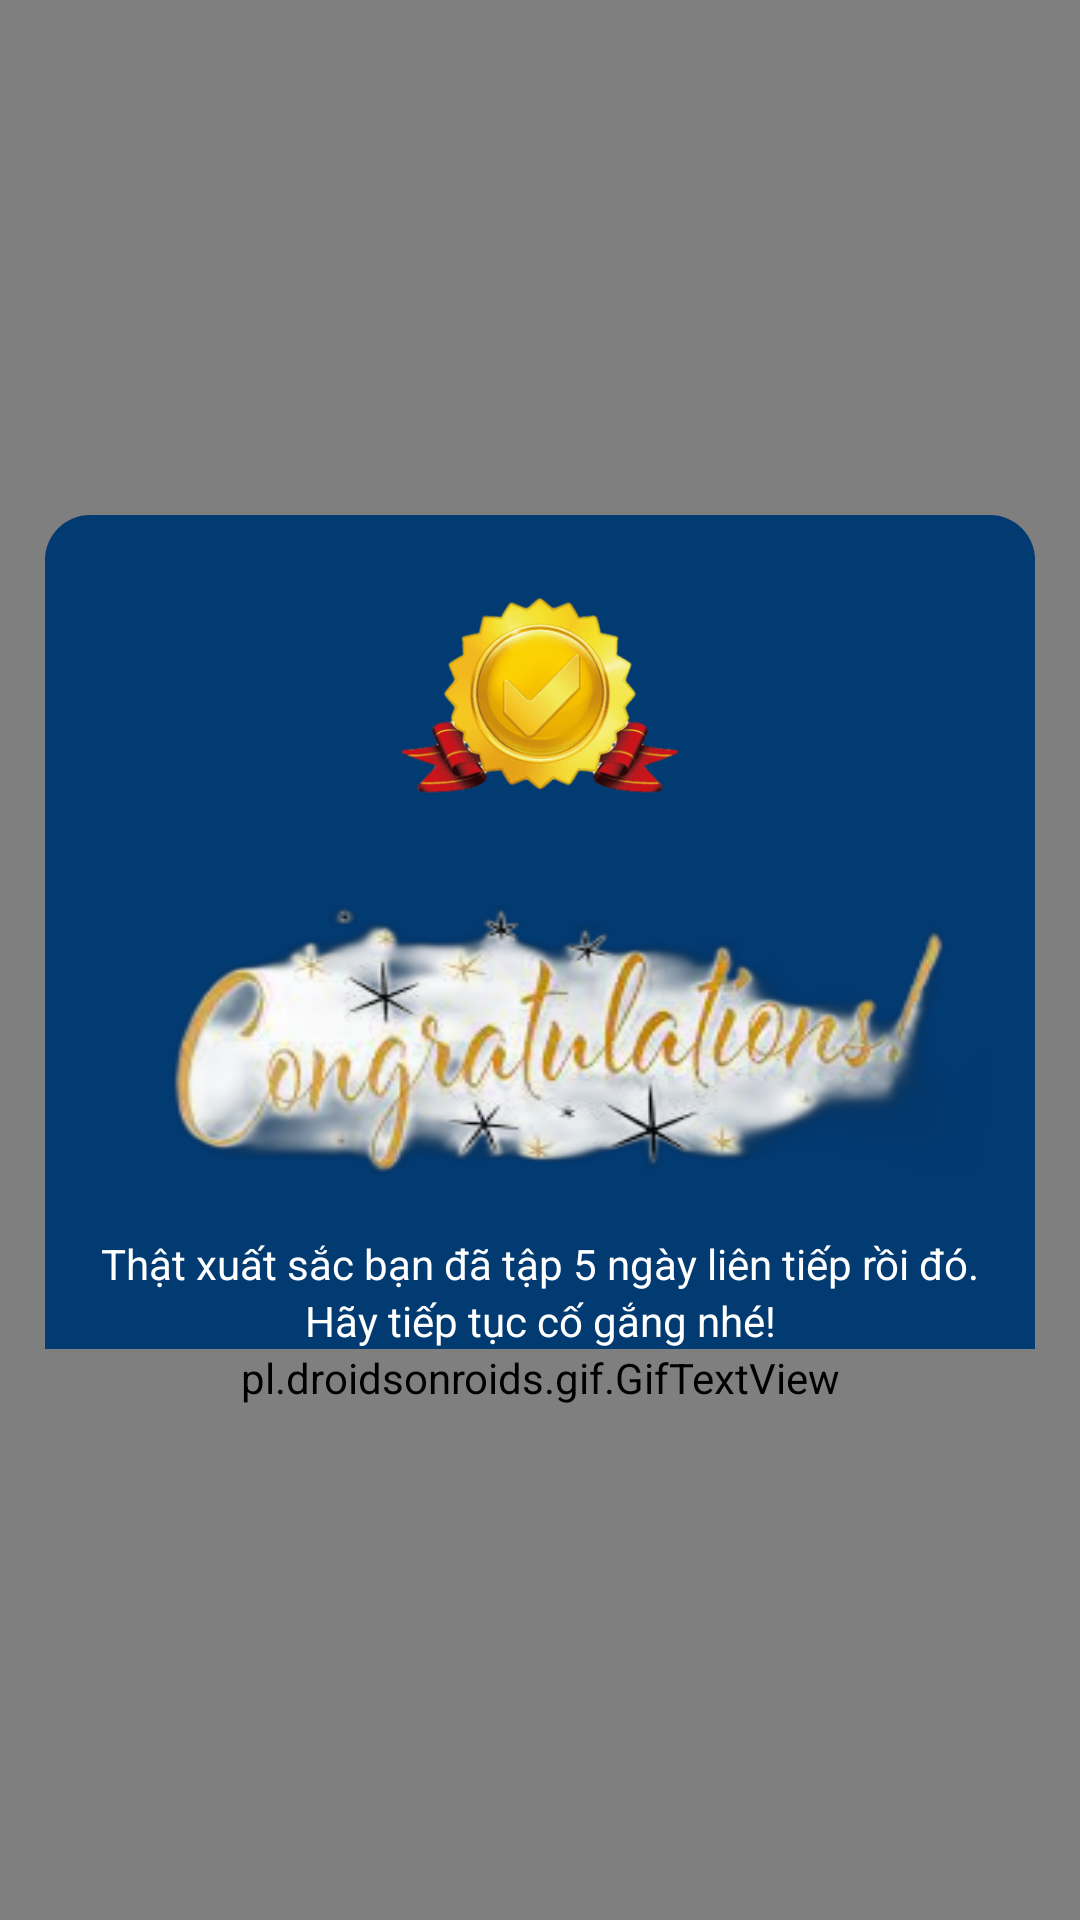

Where to tap for icons on this 1080x1920 app screen, as (x=x, y=y):
huy chuong: (x=540, y=695)
